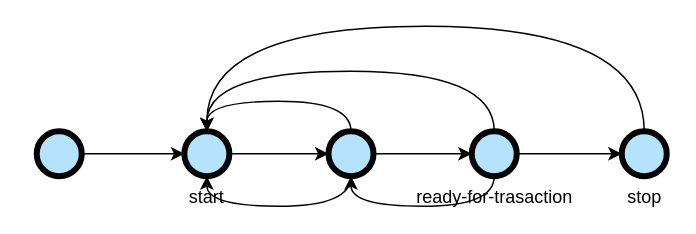
Image size: 696x234. Some labels were removed from this diagram. Here are the shapes that lost their labels. From the top down, the centre of each, then its label:
the point at 58,153: init-state
the point at 350,153: exchage-key
